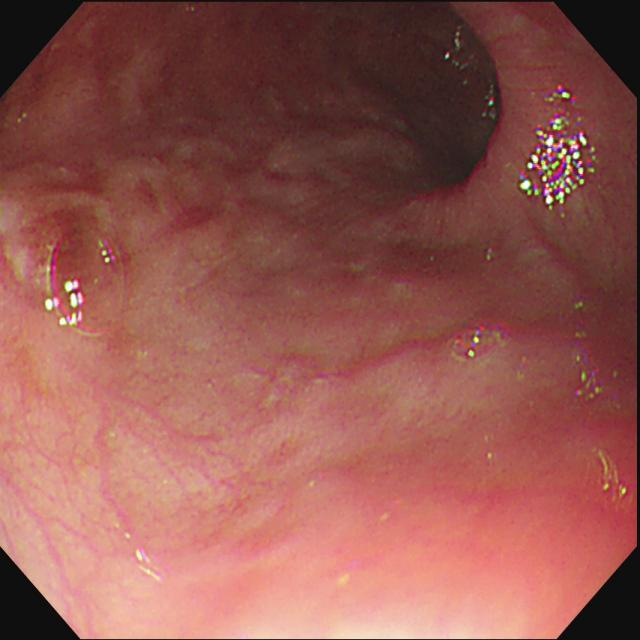A: (133, 121, 373, 265)
E: (399, 6, 519, 205)
T: (45, 221, 129, 343), (445, 313, 513, 365)
U: (518, 84, 599, 212), (572, 297, 604, 404), (442, 23, 471, 75), (483, 77, 499, 124)
